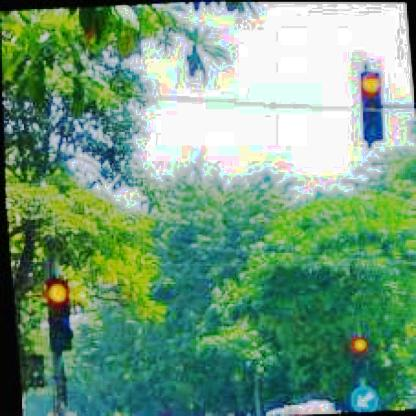Traffic Light -Red-: (360, 71, 388, 142), (46, 279, 72, 351)
